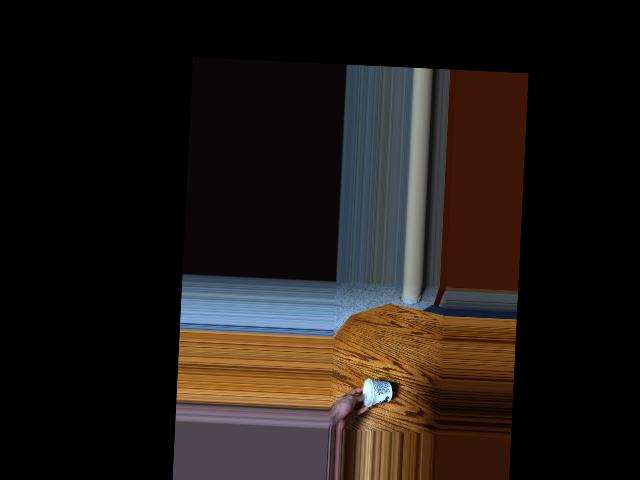cotage: (359, 383, 390, 407)
